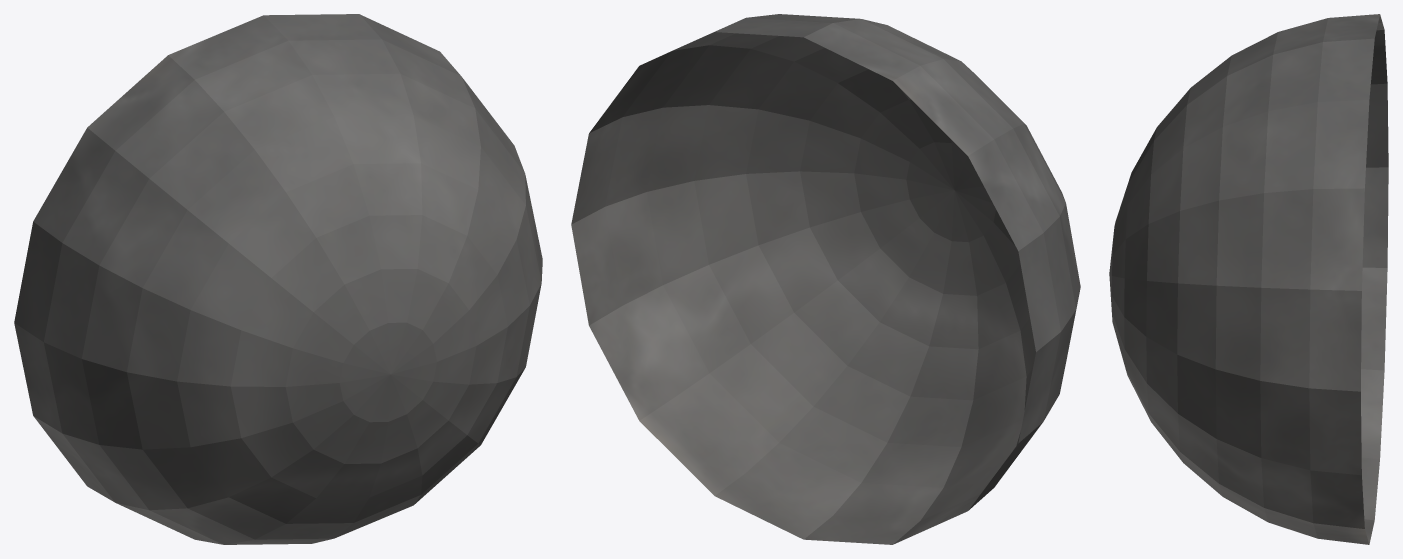
3 renders of one model, left to right at view 1: azimuth 30°, elevation 25°; view 2: azimuth 150°, elevation 25°; view 3: azimuth 270°, elevation 25°, orthographic. The views are drawn at different scales.
Parts seen in each view (by area): view 1: Cube.1920; view 2: Cube.1920; view 3: Cube.1920.
Boxes of the visible parts, x1,y1,x2,y2 form: Cube.1920: [14, 14, 542, 544]; Cube.1920: [571, 14, 1080, 544]; Cube.1920: [1109, 14, 1388, 544].
Bounding box in the file's own units: 10.25 × 10.27 × 5.4.
Materials: 1 (1 with a texture image).
